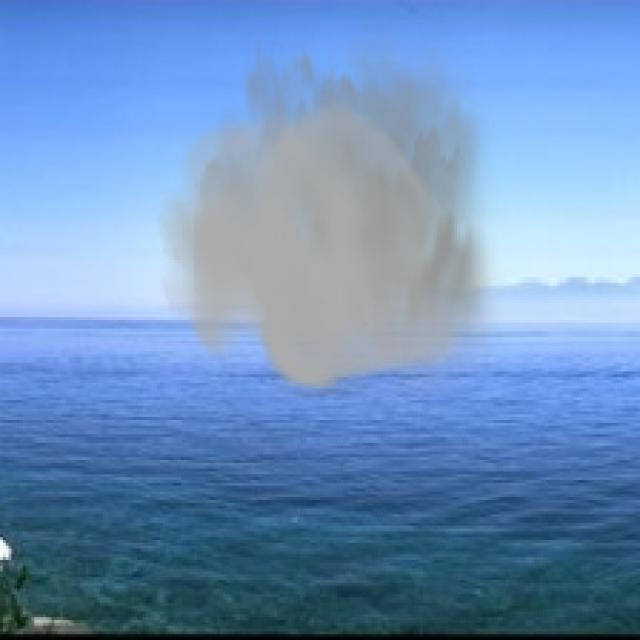Smoke: (157, 2, 506, 398)
